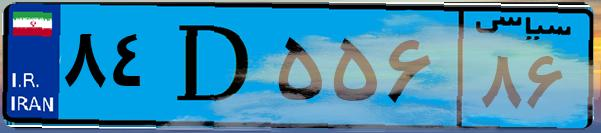4: (110, 28, 158, 98)
5: (270, 28, 330, 110), (330, 28, 385, 110)
6: (385, 28, 445, 110), (525, 38, 570, 115)
8: (57, 26, 110, 100), (475, 38, 525, 113)
D: (158, 12, 270, 120)
